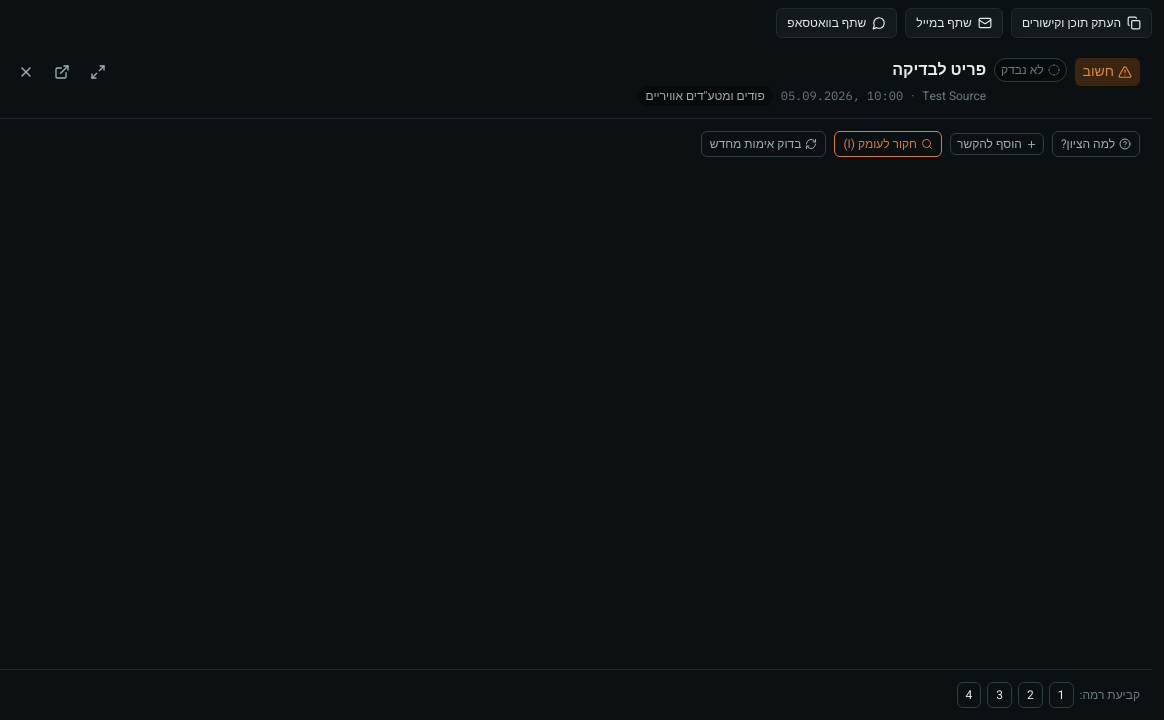
FeedDetailPanel corroboration (CORR) › shows a Hebrew error toast when the re-check request fails
Click the button with test id "corroboration-recheck-button": point(764, 144) [701,131,826,157]
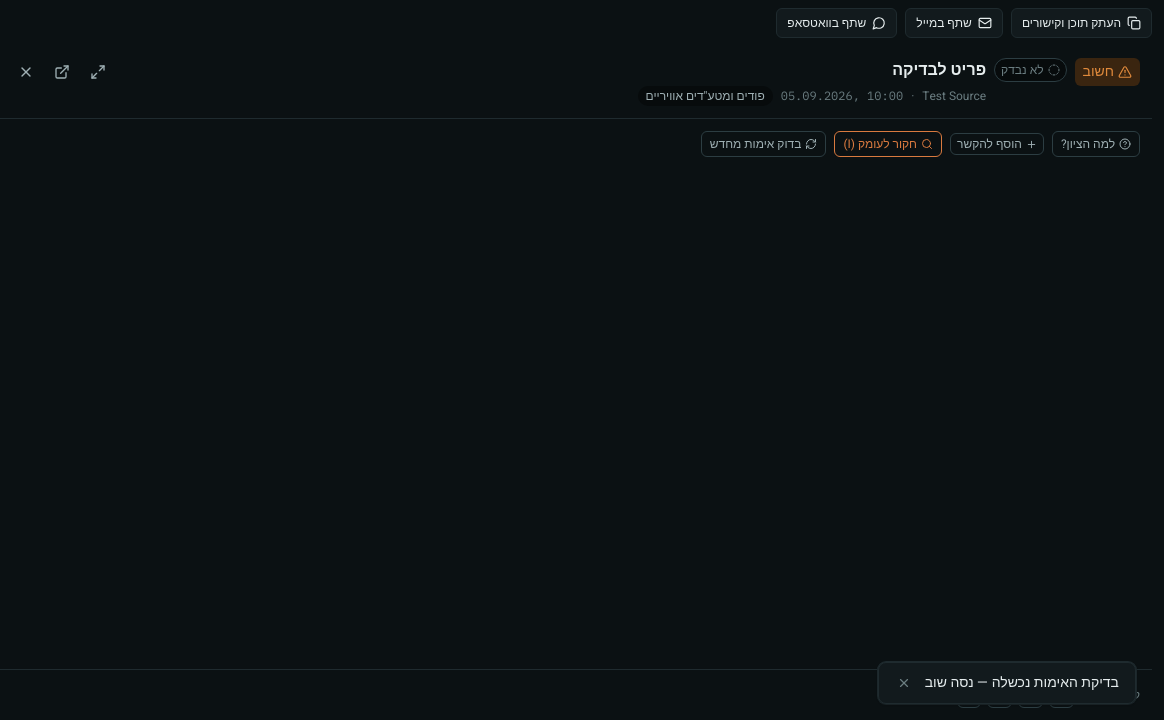
Expected: the text "בדיקת האימות נכשלה — נסה שוב" is shown, [925,673,1119,693]
